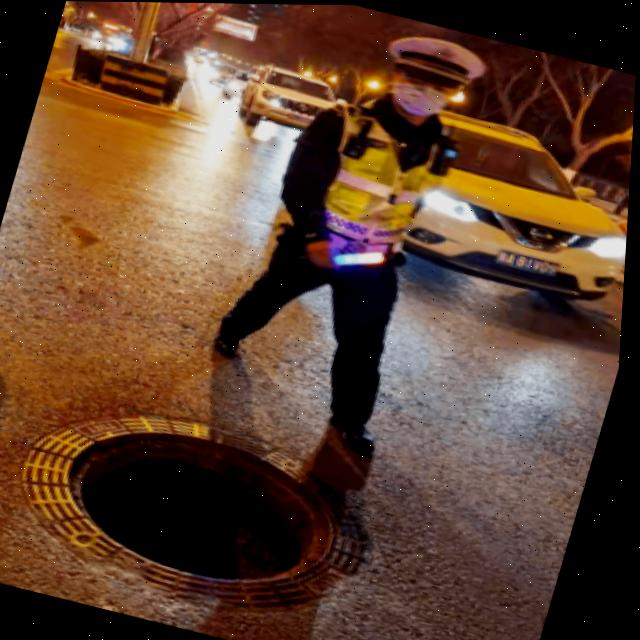manhole: (0, 371, 406, 630)
